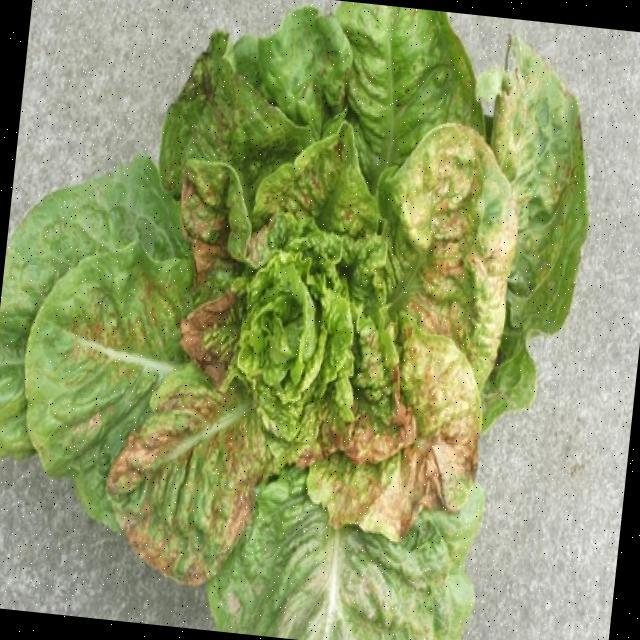Bacterial: (152, 111, 480, 498)
